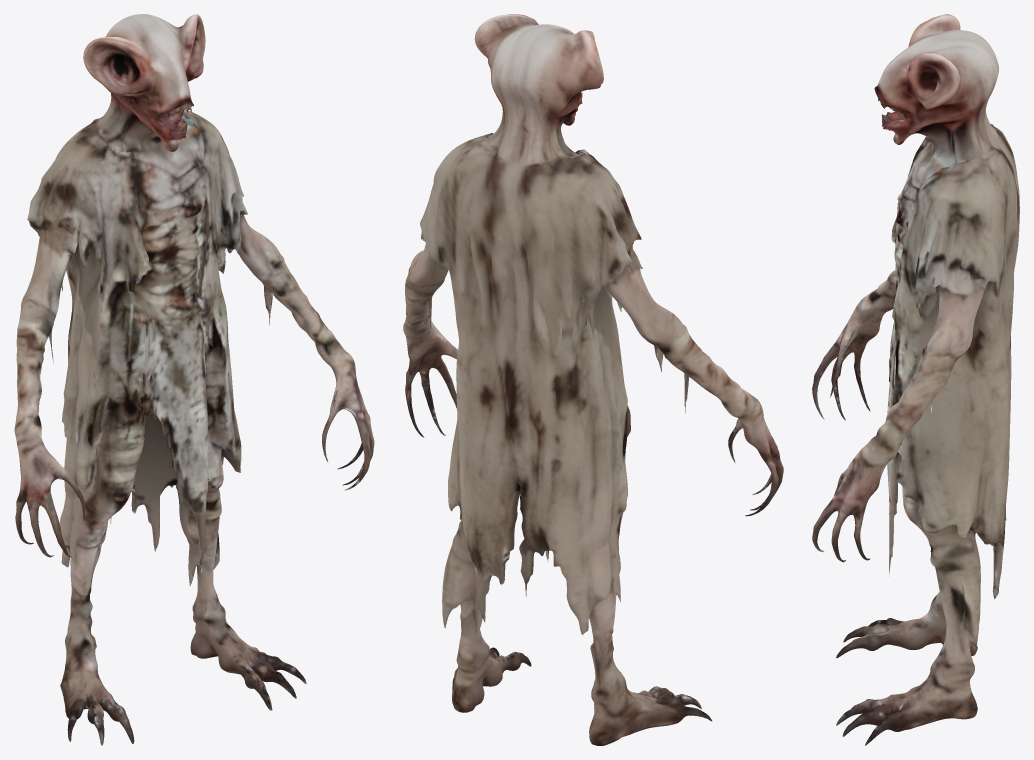
File: TheListener.fbx
3 renders of one model, left to right at view 1: azimuth 30°, elevation 25°; view 2: azimuth 150°, elevation 25°; view 3: azimuth 270°, elevation 25°, orthographic. The views are drawn at different scales.
Visible parts, largest first — view 1: model; view 2: model; view 3: model.
Part boxes in pixels (<box>): model: <box>14,14,374,745</box>; model: <box>403,14,783,745</box>; model: <box>812,14,1019,745</box>.
Size of the model in its own units: 106 by 190 by 54.16.
